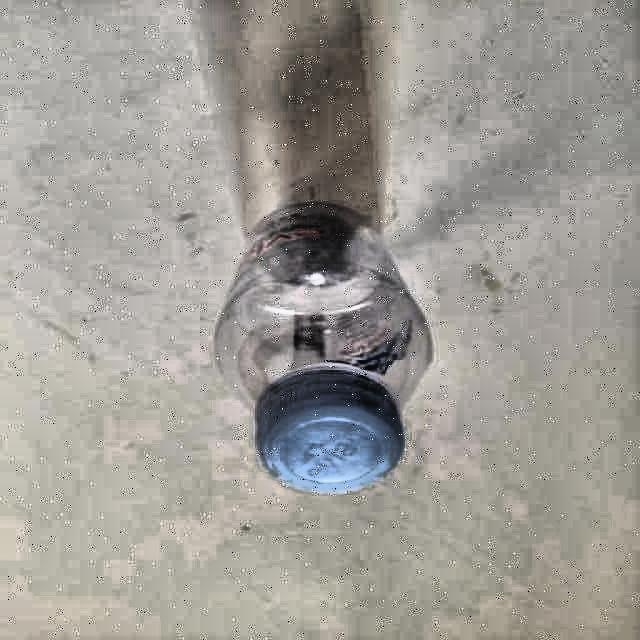plastic: (216, 204, 431, 491)
